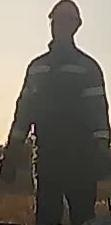gloves: (88, 136, 111, 181), (0, 141, 21, 184)
helmet: (47, 0, 82, 31)
vest: (0, 46, 110, 224)
